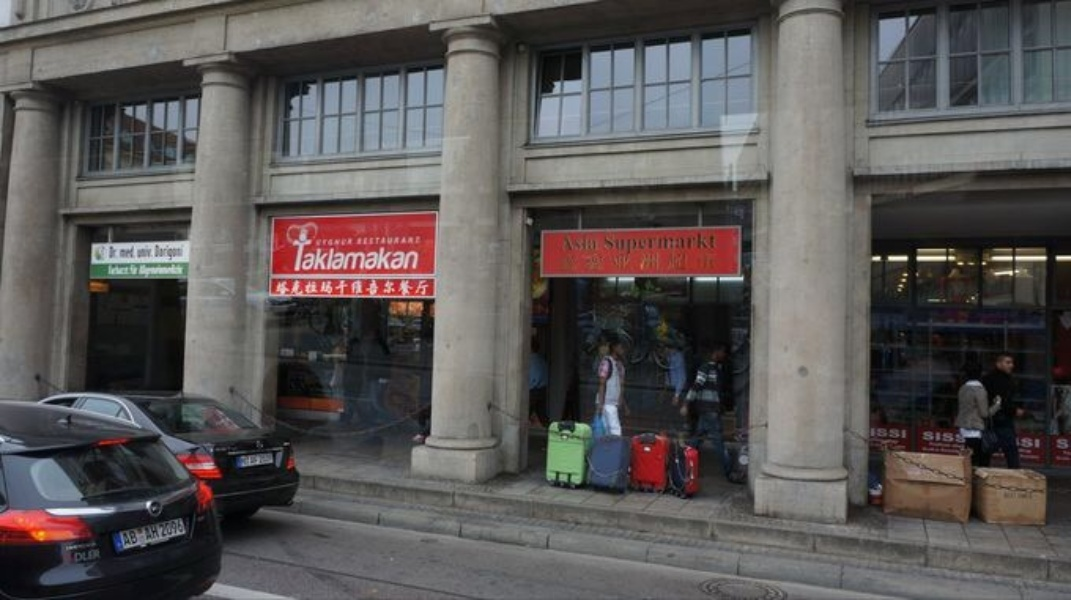text: (305, 240, 320, 271), (321, 240, 336, 271), (337, 240, 352, 271), (353, 240, 368, 271), (369, 240, 384, 271), (385, 240, 400, 271), (401, 240, 416, 271), (293, 240, 304, 271), (609, 234, 624, 256), (625, 234, 640, 256), (641, 234, 656, 256), (657, 234, 672, 256), (673, 234, 688, 256), (689, 234, 704, 256), (577, 252, 592, 273), (593, 252, 608, 273), (609, 252, 624, 273), (625, 252, 640, 273), (641, 252, 656, 273), (657, 252, 672, 273), (673, 252, 688, 273), (689, 252, 704, 273), (161, 519, 176, 539), (145, 523, 160, 542), (257, 452, 273, 468), (113, 245, 128, 262), (129, 245, 144, 262), (145, 245, 160, 262), (161, 245, 176, 262), (577, 237, 592, 254), (564, 252, 576, 273), (705, 234, 716, 256), (113, 263, 128, 279), (129, 263, 144, 279), (145, 263, 160, 279), (161, 263, 176, 279), (289, 281, 304, 297), (305, 281, 320, 297), (321, 281, 336, 297), (337, 281, 352, 297), (353, 281, 368, 297), (369, 281, 384, 297), (385, 281, 400, 297), (401, 281, 416, 297), (241, 452, 256, 468), (705, 252, 716, 273), (81, 549, 96, 564), (563, 237, 576, 254), (417, 281, 430, 297), (929, 430, 944, 443), (945, 430, 960, 443), (276, 281, 288, 297), (881, 427, 896, 438), (1025, 438, 1040, 449), (129, 531, 138, 547), (1057, 438, 1068, 451), (177, 519, 183, 539), (870, 427, 880, 438), (177, 245, 183, 262), (897, 427, 906, 438), (177, 263, 183, 279), (97, 549, 103, 564), (604, 234, 608, 256), (123, 531, 128, 547), (593, 237, 597, 254), (923, 430, 928, 443), (961, 430, 966, 443), (76, 549, 80, 564), (109, 245, 112, 262), (109, 263, 112, 279), (1020, 438, 1024, 449), (158, 519, 160, 539), (417, 240, 418, 271)
